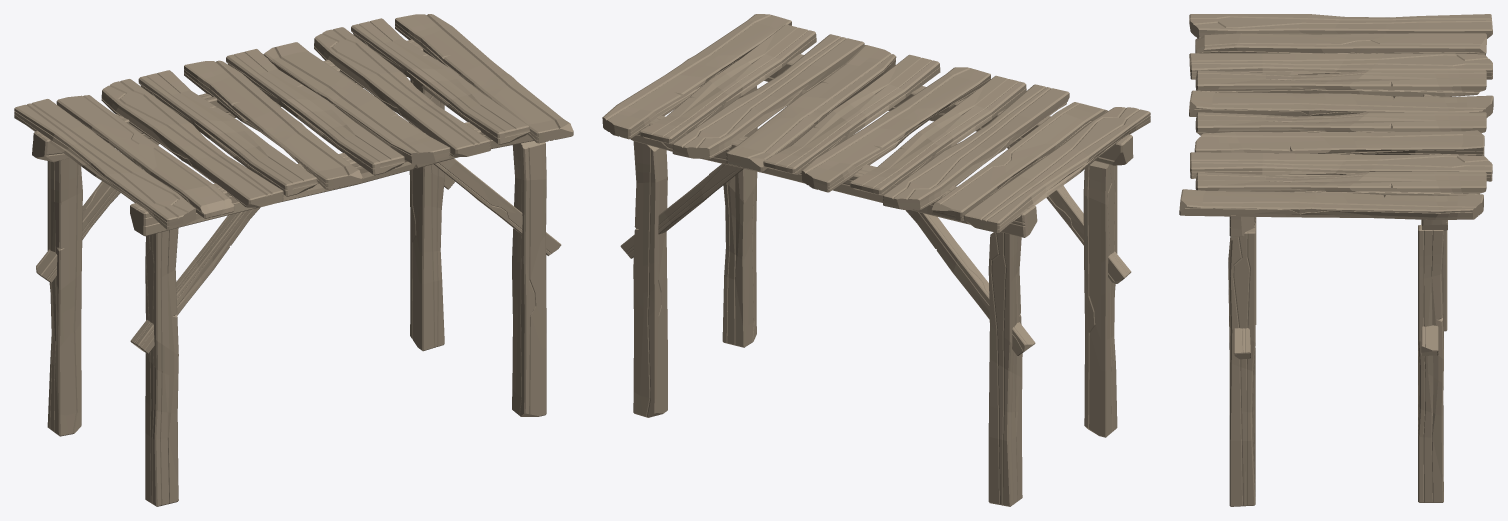
The model's file is bridge.fbx.
3 renders of one model, left to right at view 1: azimuth 30°, elevation 25°; view 2: azimuth 150°, elevation 25°; view 3: azimuth 270°, elevation 25°, orthographic.
Parts seen in each view (by area): view 1: bridge_platform00, bridge_support01, bridge_support02, bridge_support00, bridge_support03; view 2: bridge_platform00, bridge_support00, bridge_support03, bridge_support01, bridge_support02; view 3: bridge_platform00, bridge_support02, bridge_support03, bridge_support00.
Part boxes in pixels (x1,y1,x2,y2): bridge_platform00: [14, 14, 573, 236]; bridge_support01: [130, 207, 260, 506]; bridge_support02: [434, 141, 561, 416]; bridge_support00: [36, 138, 159, 436]; bridge_support03: [409, 79, 455, 351]; bridge_platform00: [602, 14, 1150, 237]; bridge_support00: [905, 210, 1035, 506]; bridge_support03: [620, 141, 743, 417]; bridge_support01: [1007, 141, 1131, 437]; bridge_support02: [709, 86, 757, 347]; bridge_platform00: [1179, 14, 1493, 236]; bridge_support02: [1228, 223, 1255, 506]; bridge_support03: [1418, 219, 1443, 502]; bridge_support00: [1444, 230, 1447, 331].
Size of the model in its own units: 49.88 by 35.06 by 32.77.
